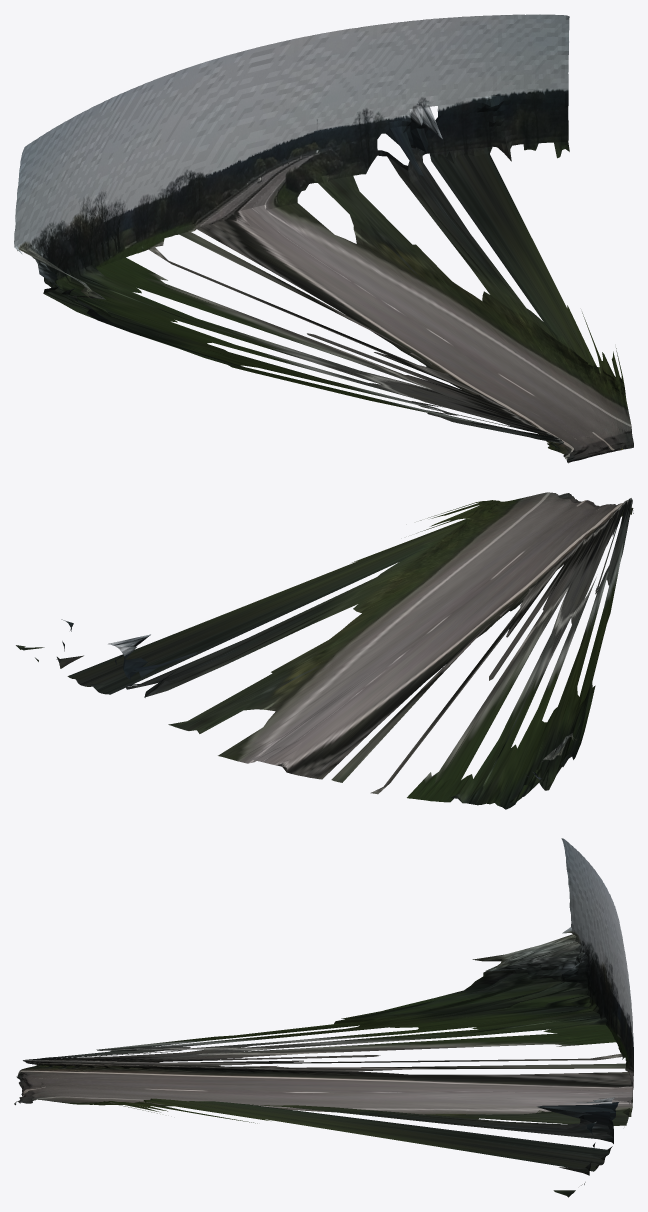
3 renders of one model, top to bottom at view 1: azimuth 30°, elevation 25°; view 2: azimuth 150°, elevation 25°; view 3: azimuth 270°, elevation 25°, orthographic. The views are drawn at different scales.
Parts seen in each view (by area): view 1: defaultobject; view 2: defaultobject; view 3: defaultobject.
Part boxes in pixels (x1,y1,x2,y2): defaultobject: [14, 14, 633, 463]; defaultobject: [16, 492, 633, 809]; defaultobject: [14, 838, 633, 1197].
Size of the model in its own units: 41.14 by 12.68 by 44.51.
Materials: 1 (1 with a texture image).
